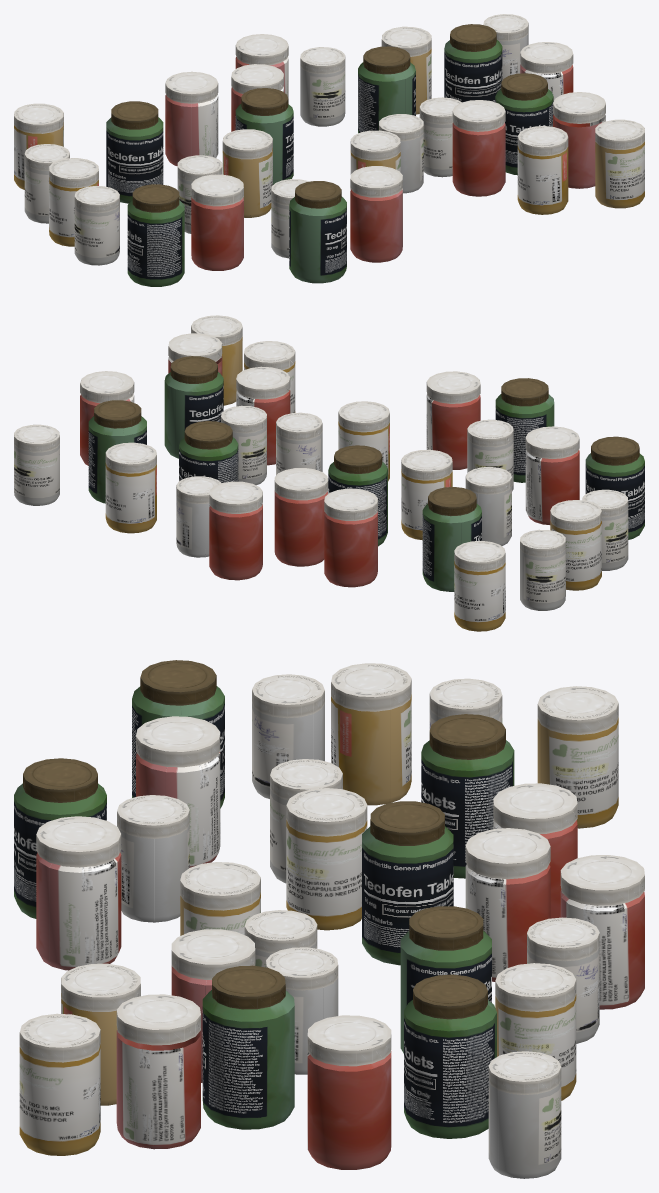
Rendered from Pills_B.fbx.
3 renders of one model, top to bottom at view 1: azimuth 30°, elevation 25°; view 2: azimuth 150°, elevation 25°; view 3: azimuth 270°, elevation 25°, orthographic. The views are drawn at different scales.
Visible parts, largest first — view 1: Pills_B; view 2: Pills_B; view 3: Pills_B.
Boxes of the visible parts, bbox=[...] form: Pills_B: bbox=[14, 14, 644, 286]; Pills_B: bbox=[14, 315, 644, 631]; Pills_B: bbox=[14, 660, 644, 1178].
Size of the model in its own units: 238 by 35.69 by 156.
Materials: 1 (1 with a texture image).
